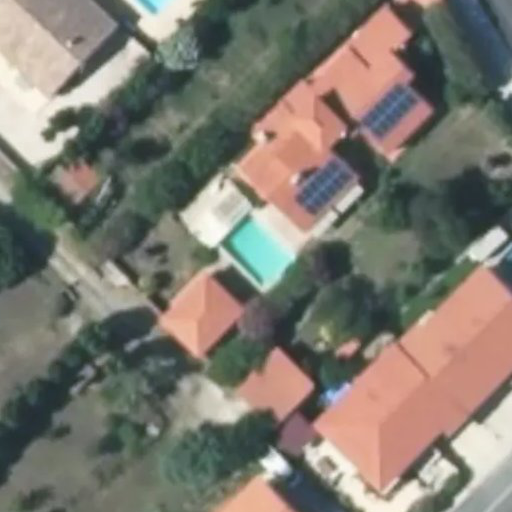pool: (221, 231, 290, 253)
